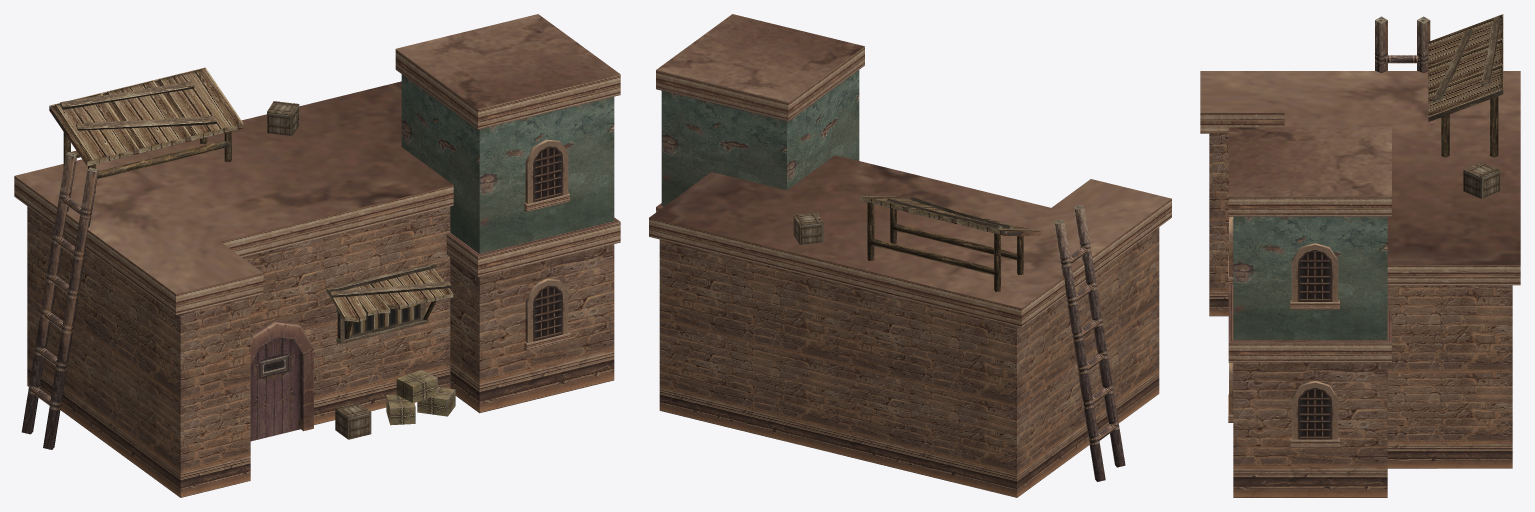
Rendered from SC_huangmo_20.FBX.
3 renders of one model, left to right at view 1: azimuth 30°, elevation 25°; view 2: azimuth 150°, elevation 25°; view 3: azimuth 270°, elevation 25°, orthographic. The views are drawn at different scales.
Parts seen in each view (by area): view 1: SC_huangmo_20; view 2: SC_huangmo_20; view 3: SC_huangmo_20.
Boxes of the visible parts, x1,y1,x2,y2 form: SC_huangmo_20: [14, 14, 620, 497]; SC_huangmo_20: [649, 14, 1171, 497]; SC_huangmo_20: [1200, 14, 1520, 497].
Bounding box in the file's own units: 1214 × 719 × 680.
